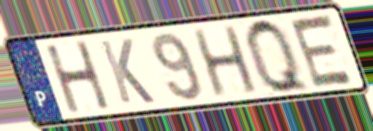9: (149, 30, 205, 103)
E: (287, 12, 358, 90)
H: (42, 39, 114, 116), (190, 23, 262, 100)
K: (96, 36, 158, 106)
Q: (242, 16, 314, 97)
